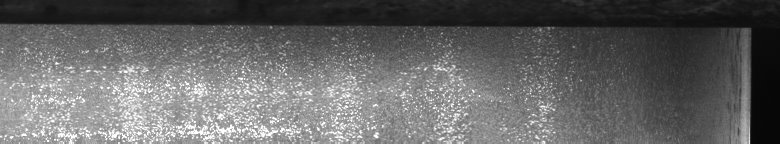kb: (4, 20, 582, 136)
